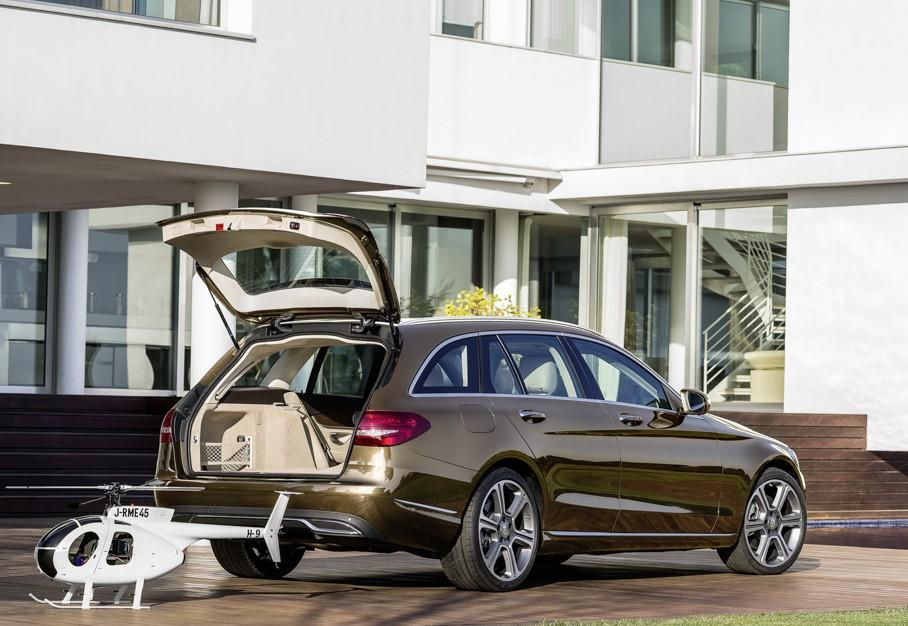Wagon: (152, 207, 808, 592)
